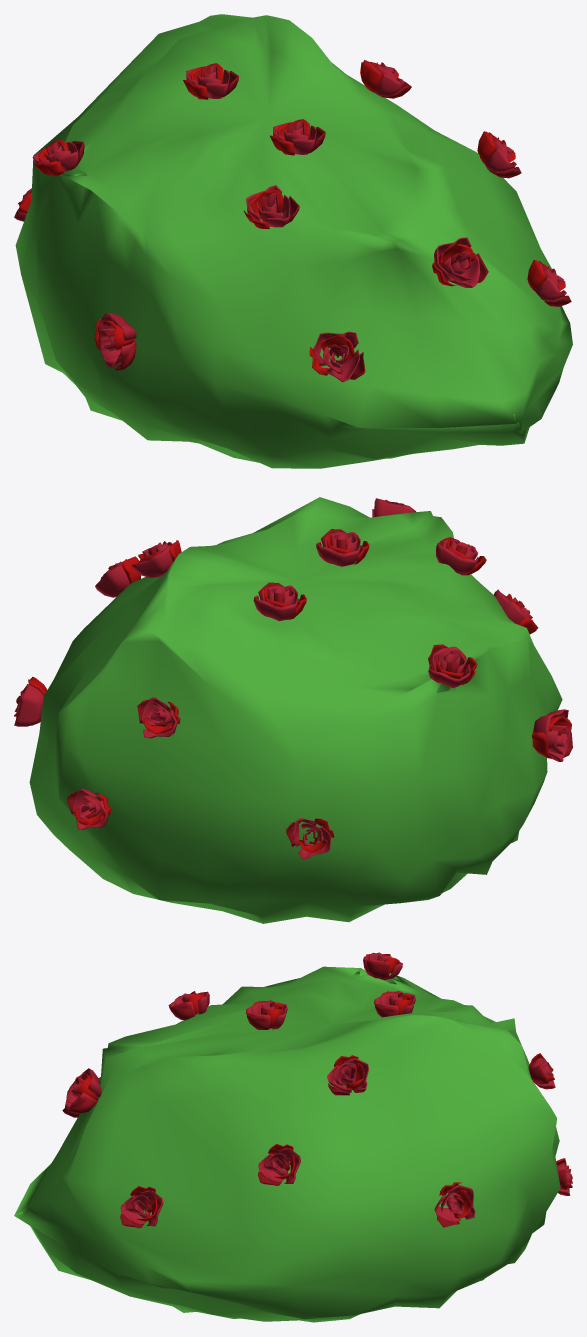
Rendered from arbusto_rosas.fbx.
The picture shows the model from 3 angles, top to bottom: view 1: azimuth 30°, elevation 25°; view 2: azimuth 150°, elevation 25°; view 3: azimuth 270°, elevation 25°; orthographic projection. The views are drawn at different scales.
Visible parts, largest first — view 1: Sphere.004, BezierCurve.004, BezierCurve.002, BezierCurve.009, BezierCurve.012, BezierCurve.008, BezierCurve.007, BezierCurve.001, BezierCurve.011, BezierCurve.003, BezierCurve.005; view 2: Sphere.004, BezierCurve.009, BezierCurve.001, BezierCurve.008, BezierCurve.007, BezierCurve, BezierCurve.013, BezierCurve.010, BezierCurve.012, BezierCurve.003, BezierCurve.006, BezierCurve.011 (+1 smaller); view 3: Sphere.004, BezierCurve.005, BezierCurve.011, BezierCurve.006, BezierCurve.003, BezierCurve.002, BezierCurve.007, BezierCurve.008, BezierCurve.012, BezierCurve.001, BezierCurve.
Boxes of the visible parts, <box> form: Sphere.004: <box>15,14,572,468</box>; BezierCurve.004: <box>309,331,365,382</box>; BezierCurve.002: <box>432,237,488,287</box>; BezierCurve.009: <box>94,313,136,370</box>; BezierCurve.012: <box>244,185,299,229</box>; BezierCurve.008: <box>183,63,238,99</box>; BezierCurve.007: <box>270,119,325,155</box>; BezierCurve.001: <box>32,139,84,176</box>; BezierCurve.011: <box>477,131,521,178</box>; BezierCurve.003: <box>360,60,411,98</box>; BezierCurve.005: <box>527,260,571,306</box>; Sphere.004: <box>29,497,562,923</box>; BezierCurve.009: <box>531,709,572,761</box>; BezierCurve.001: <box>428,644,477,688</box>; BezierCurve.008: <box>253,582,306,621</box>; BezierCurve.007: <box>316,529,369,566</box>; BezierCurve: <box>137,697,180,738</box>; BezierCurve.013: <box>67,789,110,829</box>; BezierCurve.010: <box>286,818,334,859</box>; BezierCurve.012: <box>436,537,486,575</box>; BezierCurve.003: <box>132,540,181,577</box>; BezierCurve.006: <box>14,676,47,726</box>; BezierCurve.011: <box>95,556,140,597</box>; Sphere.004: <box>14,966,560,1322</box>; BezierCurve.005: <box>120,1186,163,1228</box>; BezierCurve.011: <box>258,1144,300,1185</box>; BezierCurve.006: <box>434,1182,475,1227</box>; BezierCurve.003: <box>327,1055,368,1095</box>; BezierCurve.002: <box>65,1068,101,1113</box>; BezierCurve.007: <box>246,1000,287,1029</box>; BezierCurve.008: <box>374,991,415,1017</box>; BezierCurve.012: <box>168,991,209,1020</box>; BezierCurve.001: <box>363,952,402,980</box>; BezierCurve: <box>528,1053,555,1089</box>.
Bounding box in the file's own units: 158 × 105 × 196.
